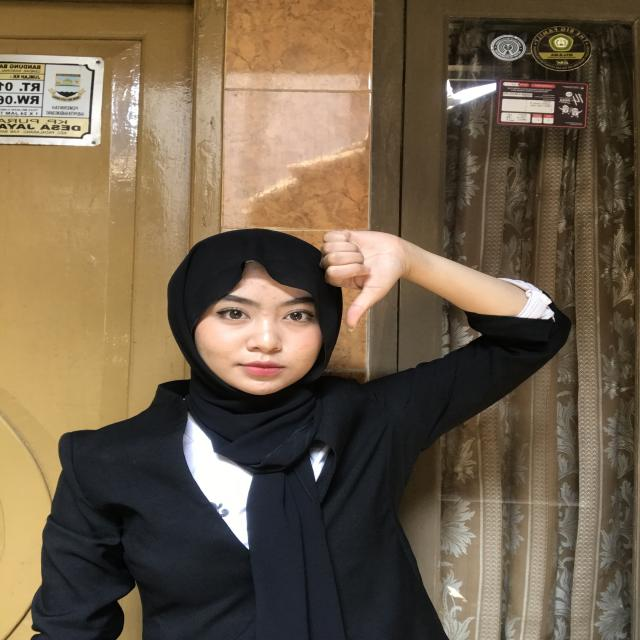sedih: (306, 212, 433, 328)
